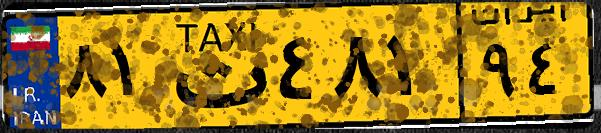1: (385, 28, 445, 110), (110, 28, 158, 98)
4: (270, 28, 330, 110), (525, 38, 570, 115)
8: (330, 28, 385, 110), (57, 26, 110, 100)
9: (475, 38, 525, 113)
ت: (158, 12, 270, 120)
